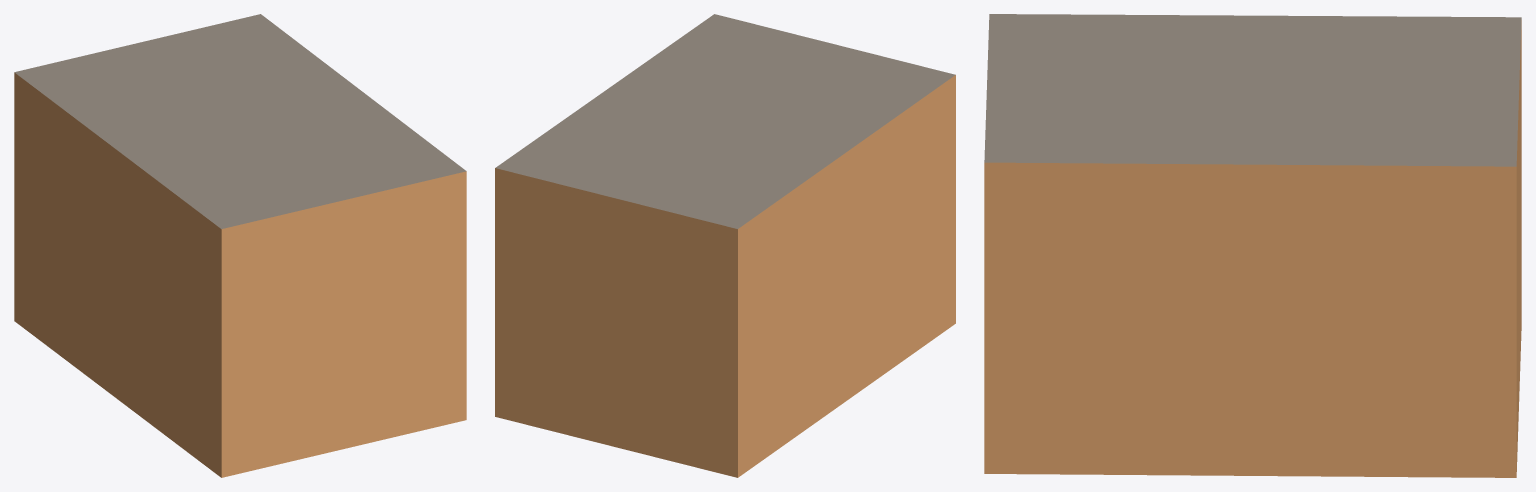
3 renders of one model, left to right at view 1: azimuth 30°, elevation 25°; view 2: azimuth 150°, elevation 25°; view 3: azimuth 270°, elevation 25°, orthographic. The views are drawn at different scales.
Parts seen in each view (by area): view 1: element.002; view 2: element.002; view 3: element.002.
Boxes of the visible parts, left/top/right/bottom form: element.002: left=14, top=14, right=466, bottom=477; element.002: left=495, top=14, right=955, bottom=477; element.002: left=984, top=14, right=1521, bottom=477.
Size of the model in its own units: 16.25 by 15.45 by 24.16.
